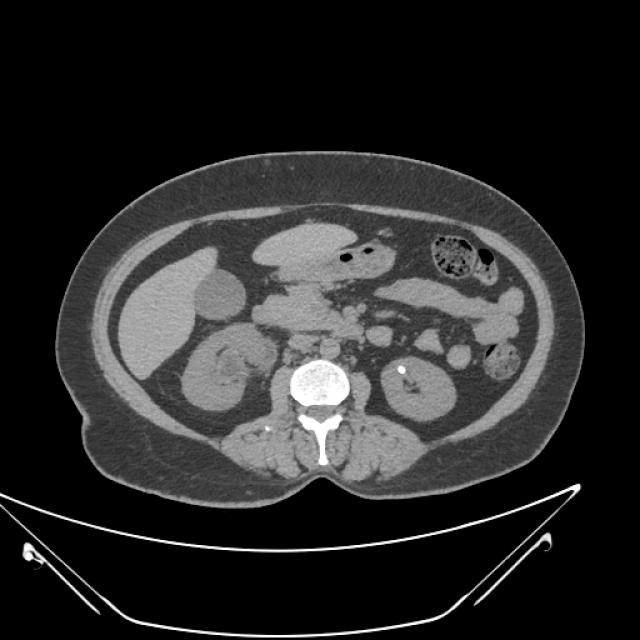kidney: (184, 330, 264, 411), (381, 359, 457, 422)
stone: (397, 366, 407, 375)
